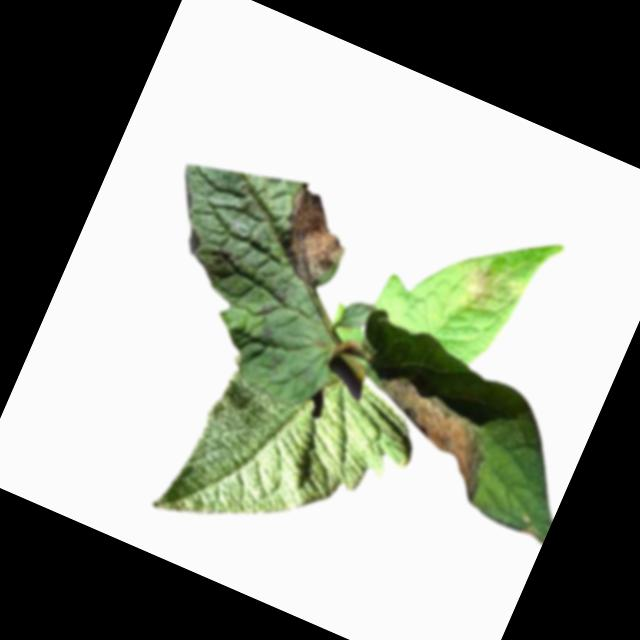Late_blight: (352, 371, 510, 504), (262, 180, 366, 295), (456, 259, 505, 315), (520, 520, 545, 541)
healthy: (150, 322, 431, 593)
